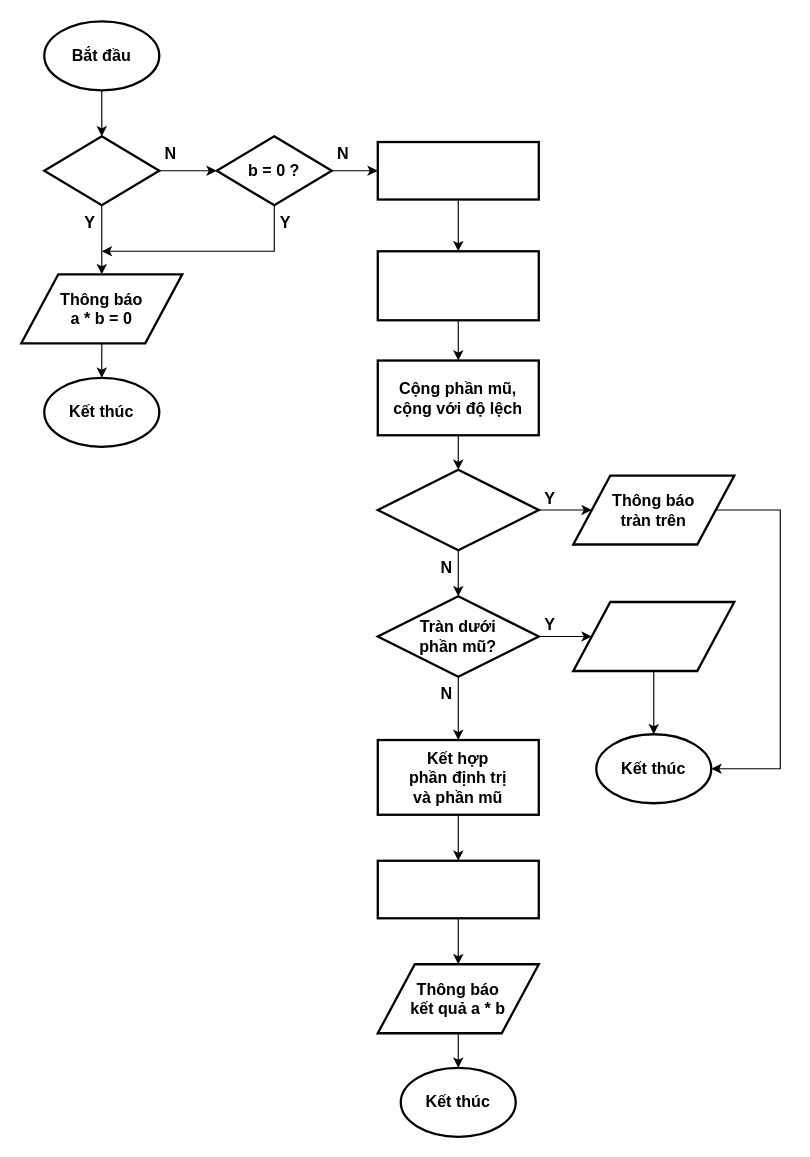
The diagram is 810 pixels wide and 1157 high, and some of its shapes have lost their labels. Here are the shapes that lost their labels. From the top down, the centre of each, then its label:
(101,170): a = 0 ?
(457,170): Nhân phần định trị
(457,285): Chuẩn hóa, xác định độ lệch phần mũ
(457,509): Tràn trên phần mũ?
(653,636): Thông báo tràn dưới
(457,889): Xác định bit dấu
